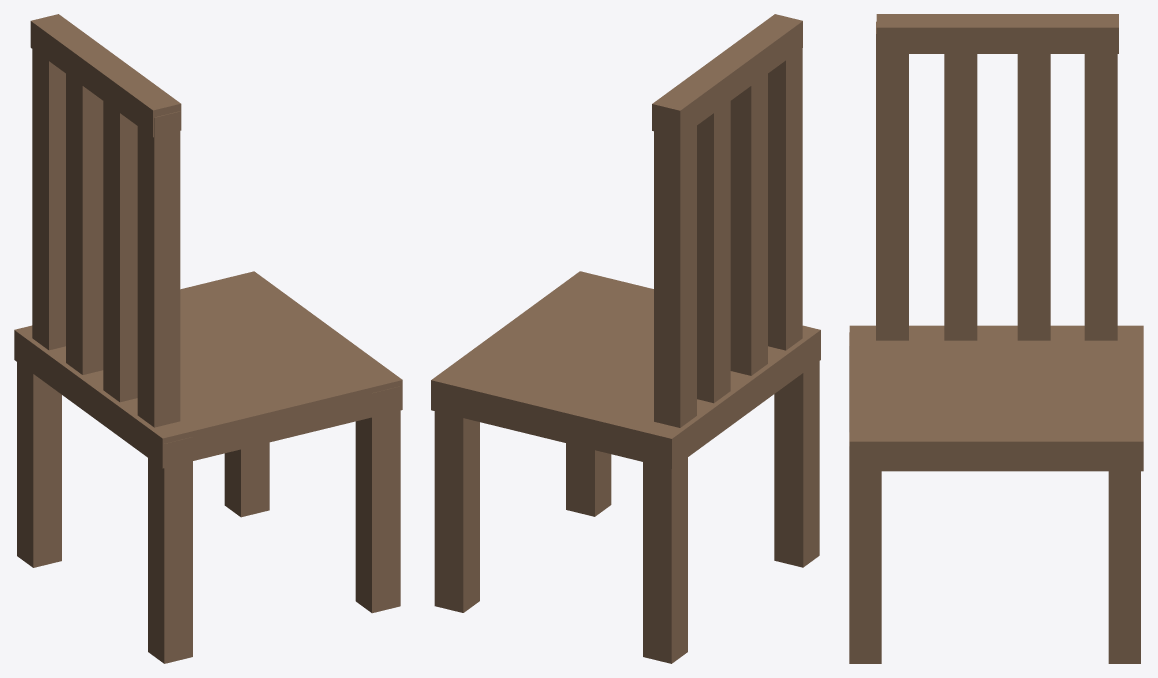
The model's file is Chair.glb.
The picture shows the model from 3 angles, left to right: view 1: azimuth 30°, elevation 25°; view 2: azimuth 150°, elevation 25°; view 3: azimuth 270°, elevation 25°; orthographic projection.
Parts seen in each view (by area): view 1: Cube.007; view 2: Cube.007; view 3: Cube.007.
Part boxes in pixels (x1,y1,x2,y2): Cube.007: (14,14,402,663); Cube.007: (431,14,820,663); Cube.007: (849,14,1143,663).
Bounding box in the file's own units: 0.8633 × 1.86 × 0.926.
